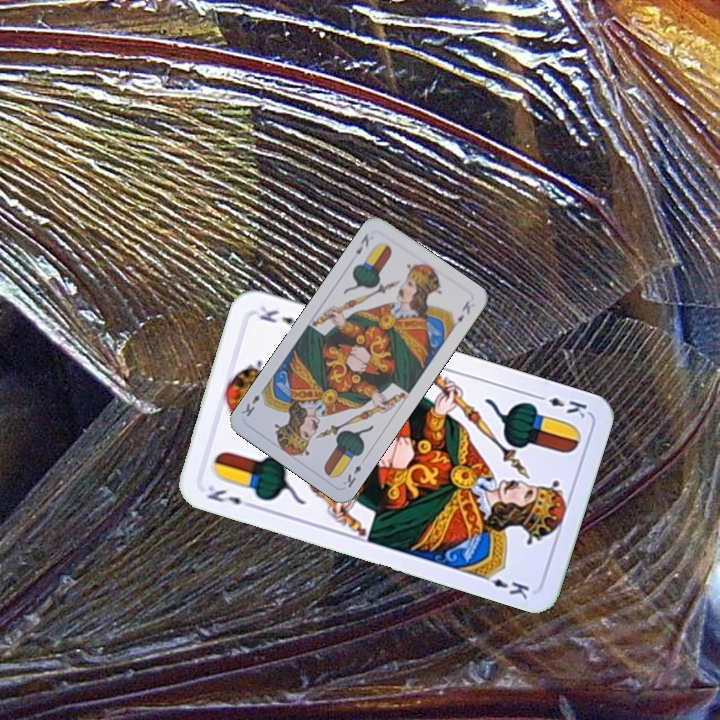EK: (531, 390, 590, 421), (203, 482, 257, 511), (338, 461, 364, 490), (351, 229, 372, 257)
